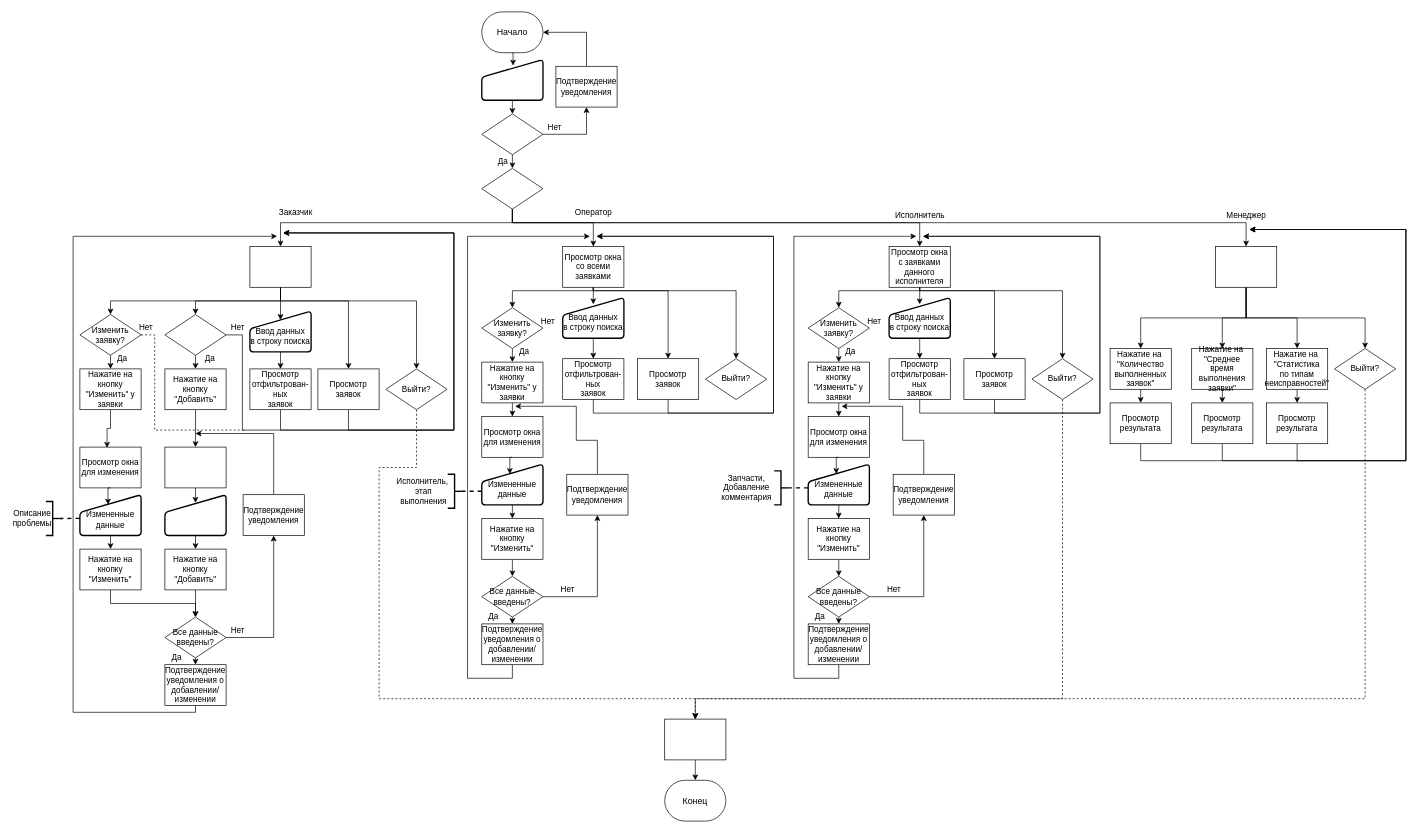
The diagram is 1423 pixels wide and 833 high, and some of its shapes have lost their labels. Each missing label, with the centre of its shape:
Ввод данных: pixel 195 515
Ввод данных для входа: pixel 512 79
Данные введены верно?: pixel 512 134
Добавить заявку?: pixel 195 334
Закрытие приложения: pixel 695 739
Просмотр окна для добавления: pixel 195 467
Просмотр окна с заявками данного заказчика: pixel 280 266
Просмотр окна статистики: pixel 1246 266
Роль ?: pixel 512 188
